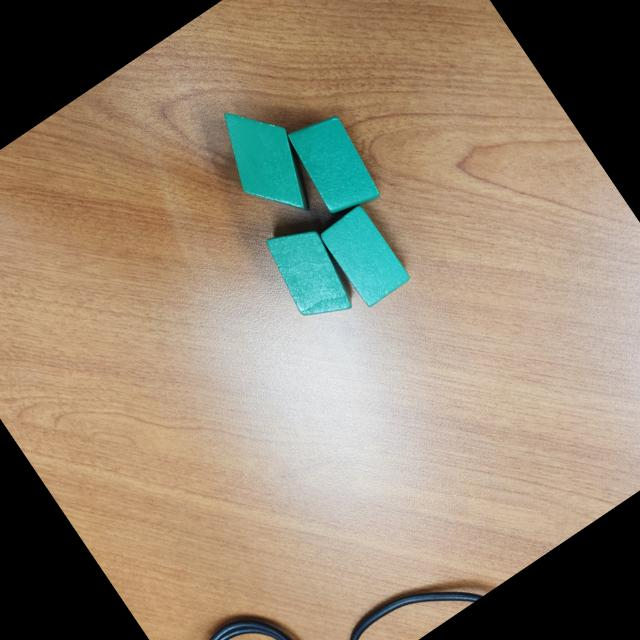green: (199, 88, 333, 238), (254, 211, 368, 335), (280, 104, 390, 224), (315, 201, 414, 312)
